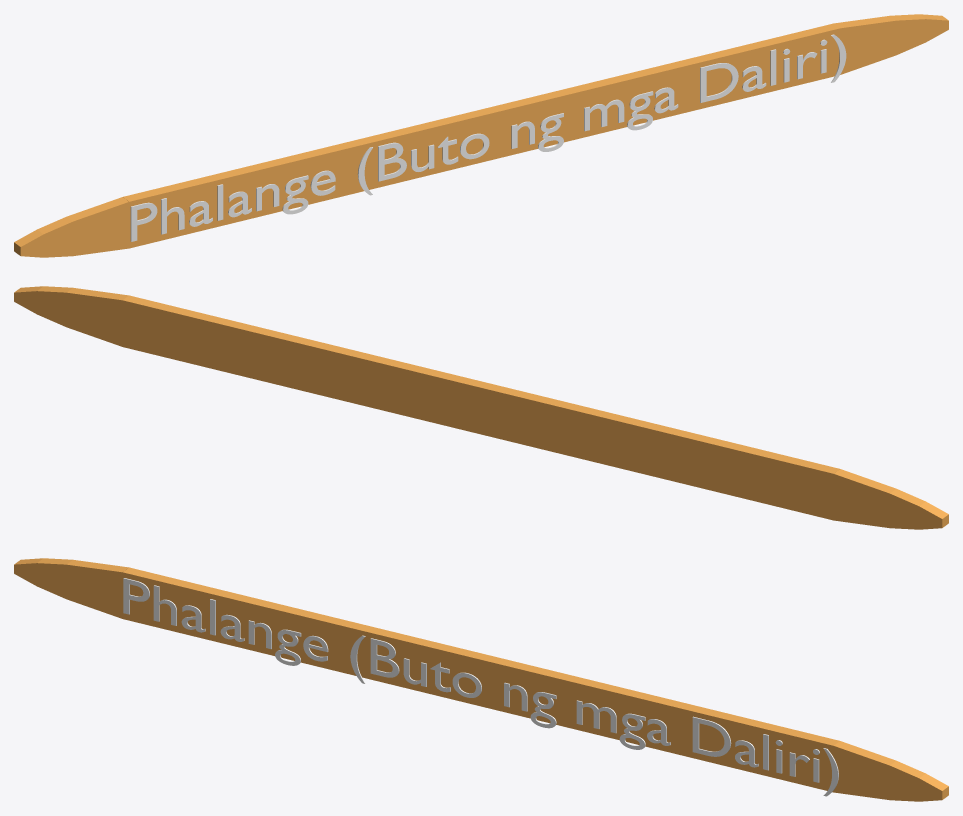
Rendered from txtPhalange.fbx.
The picture shows the model from 3 angles, top to bottom: view 1: azimuth 30°, elevation 25°; view 2: azimuth 150°, elevation 25°; view 3: azimuth 330°, elevation 25°; orthographic projection.
Visible parts, largest first — view 1: TagContainer.062, Text.063; view 2: TagContainer.062; view 3: TagContainer.062, Text.063.
Boxes of the visible parts, box(x1,y1,x2,y2) form: TagContainer.062: box(14, 14, 948, 257); Text.063: box(130, 34, 846, 241); TagContainer.062: box(14, 286, 948, 529); TagContainer.062: box(14, 558, 948, 801); Text.063: box(123, 578, 838, 796).
Size of the model in its own units: 859 by 45.81 by 11.79.
